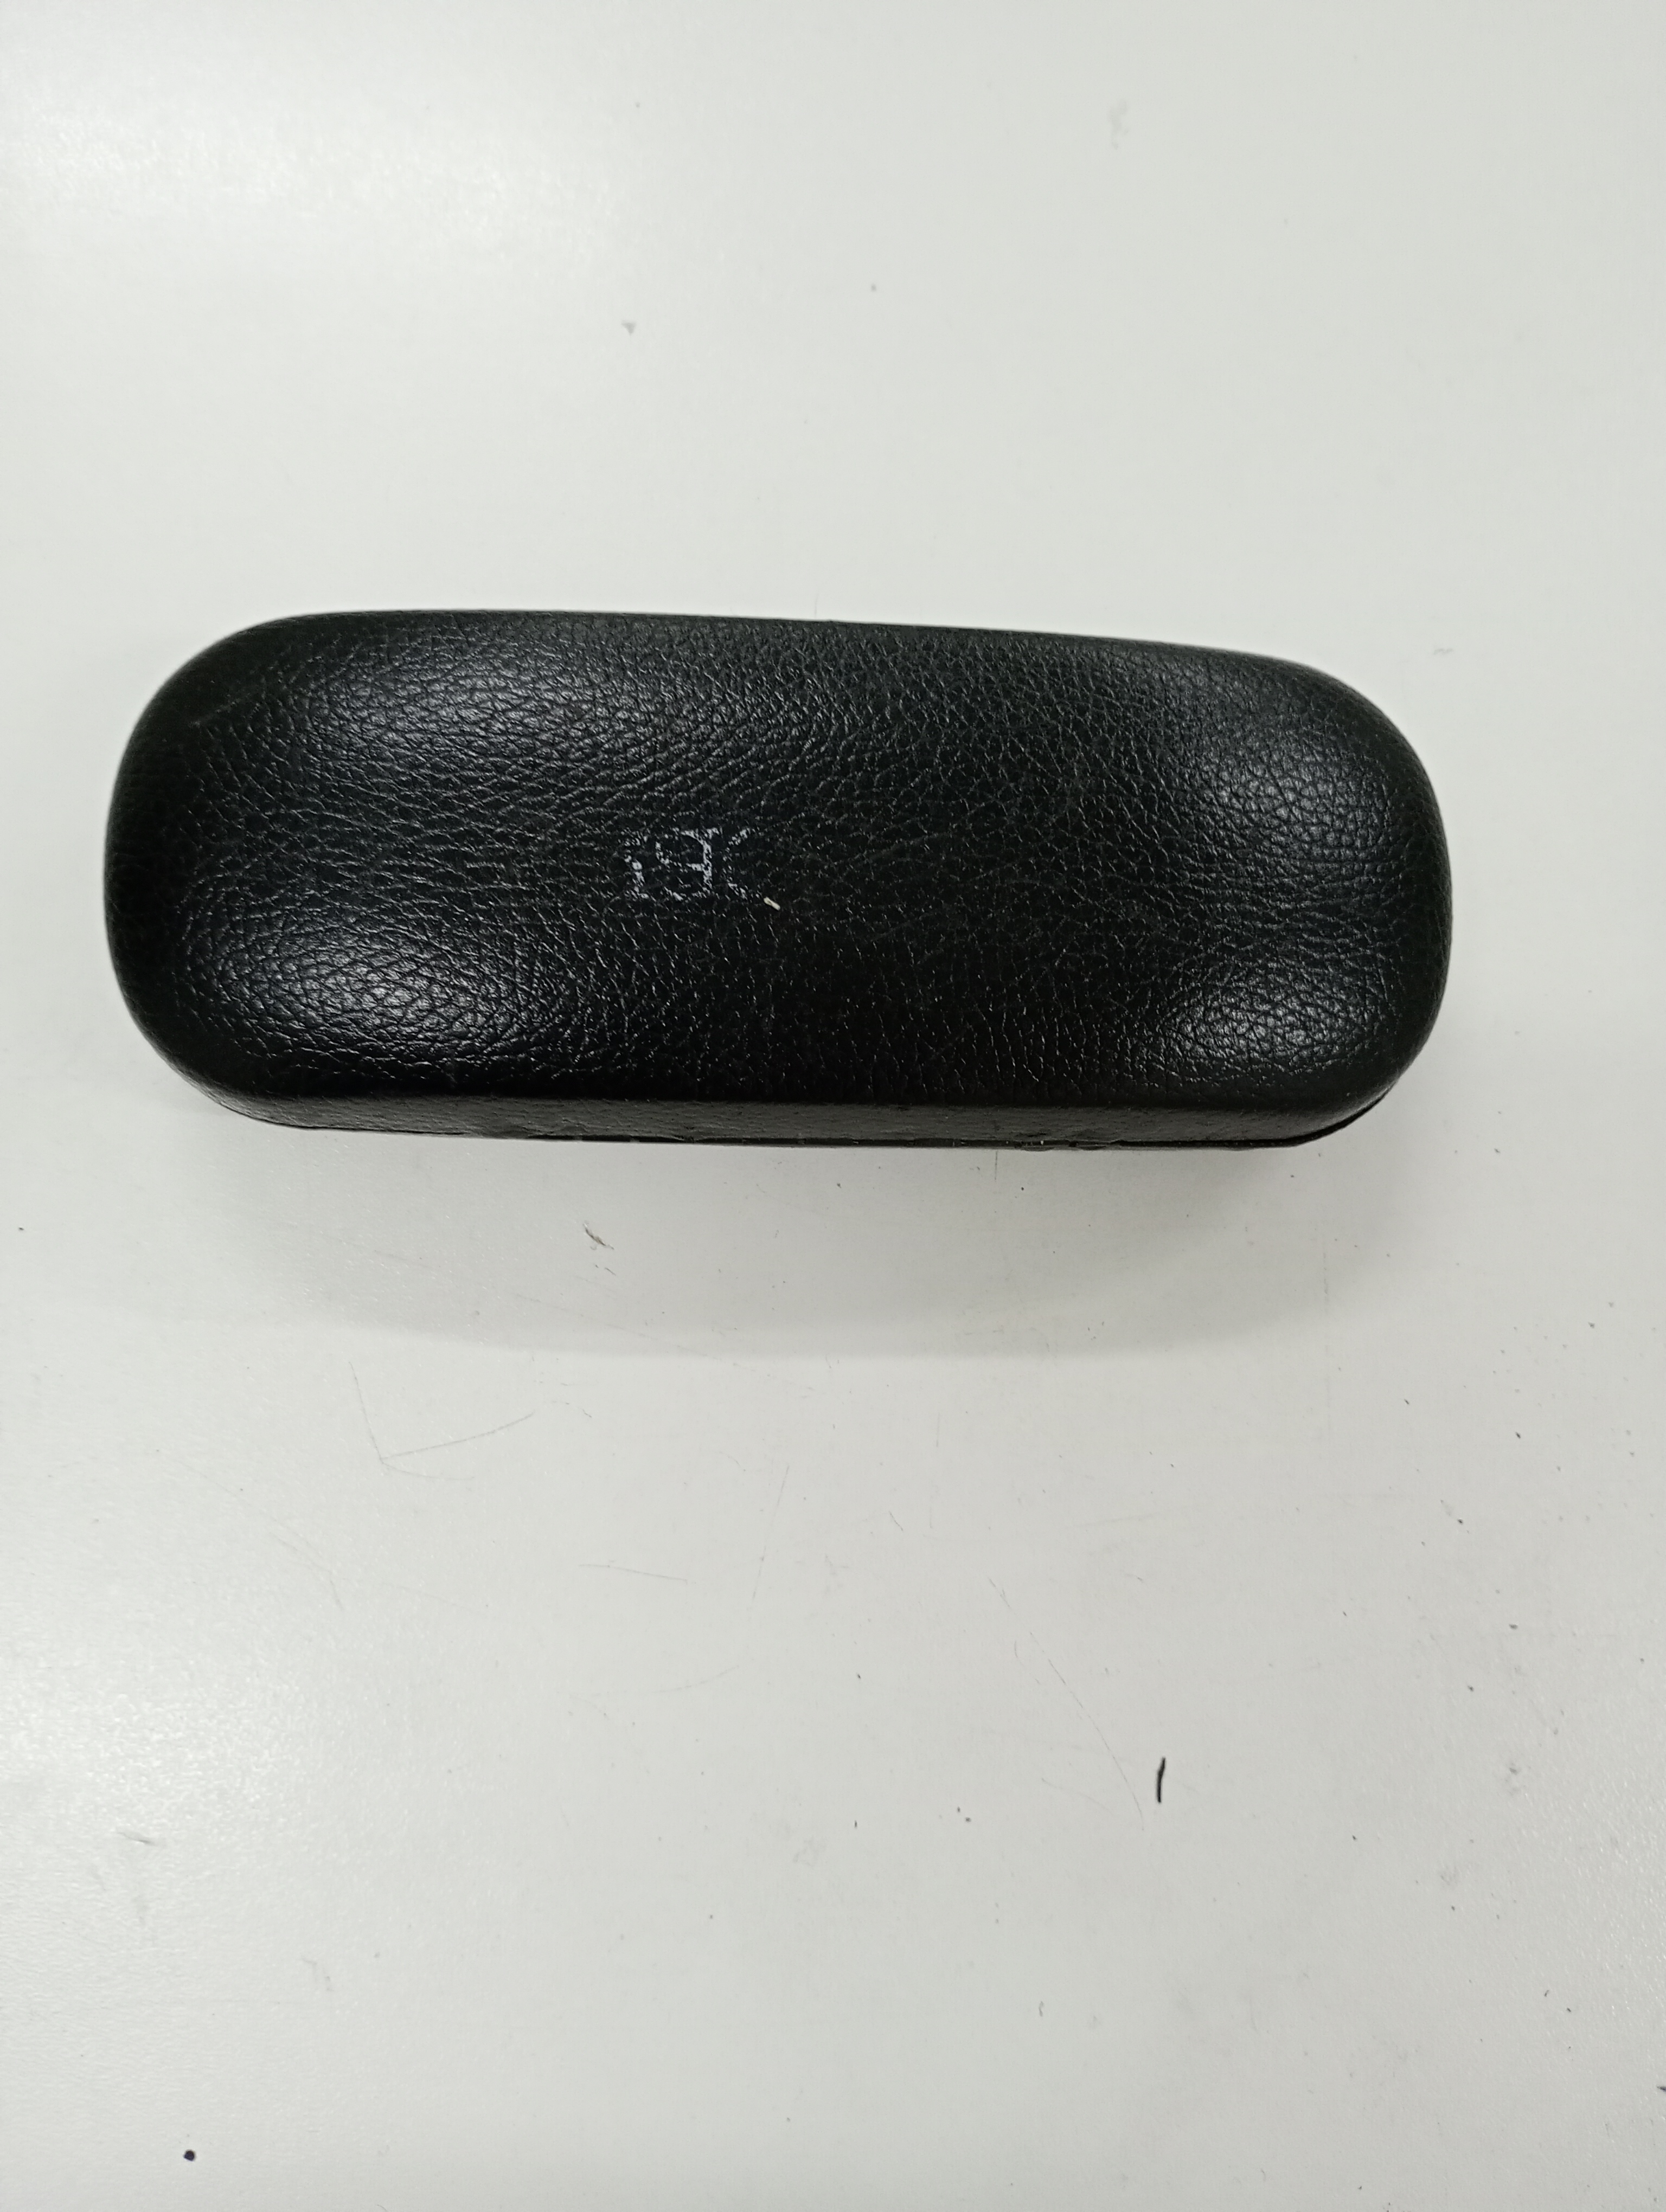estuche: (93, 593, 1459, 1172)
